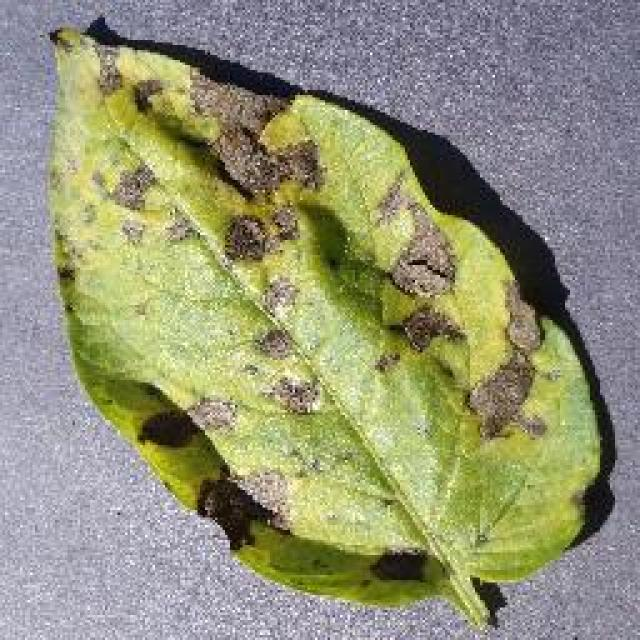early_blight: (40, 15, 612, 630)
